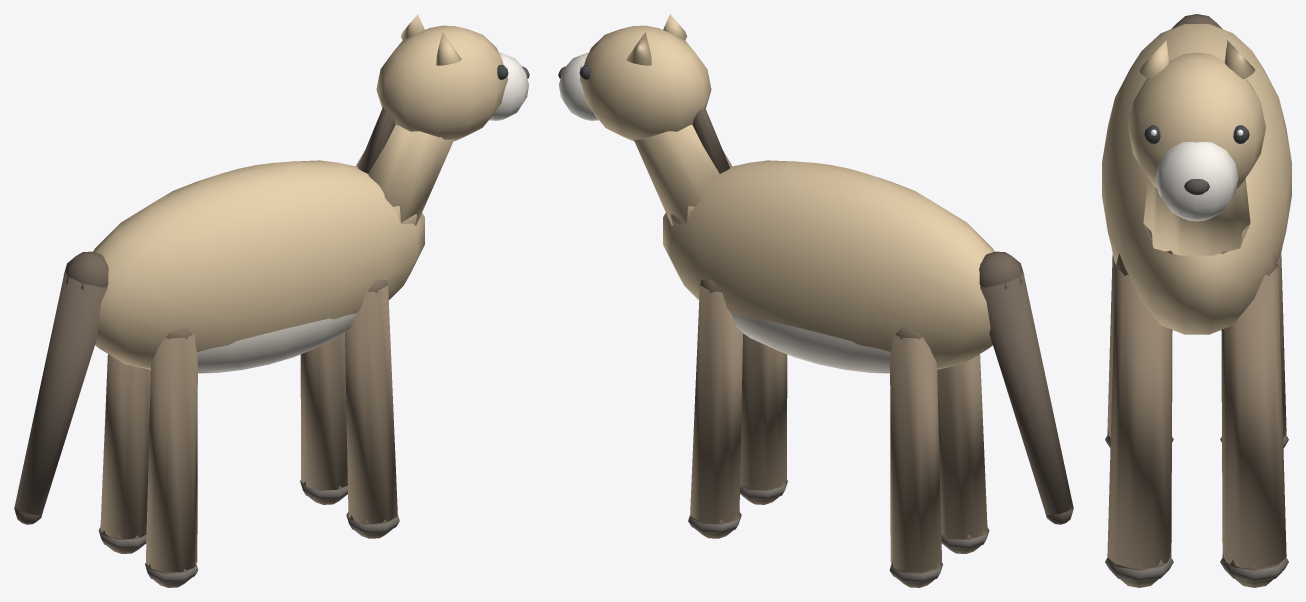
File: przewalskis-horse.glb
The picture shows the model from 3 angles, left to right: view 1: azimuth 30°, elevation 25°; view 2: azimuth 150°, elevation 25°; view 3: azimuth 270°, elevation 25°; orthographic projection. The views are drawn at different scales.
Parts seen in each view (by area): view 1: e, cone, e.025; view 2: e, cone, e.025; view 3: e, cone, e.025.
Boxes of the visible parts, left/top/right/bottom form: e: left=93, top=107, right=454, bottom=587; cone: left=376, top=14, right=529, bottom=141; e.025: left=14, top=251, right=108, bottom=524; e: left=633, top=107, right=994, bottom=587; cone: left=558, top=14, right=711, bottom=141; e.025: left=979, top=251, right=1073, bottom=524; e: left=1102, top=24, right=1291, bottom=587; cone: left=1128, top=40, right=1265, bottom=221; e.025: left=1171, top=14, right=1222, bottom=28.
Bounding box in the file's own units: 1.53 × 1.37 × 0.3959.
